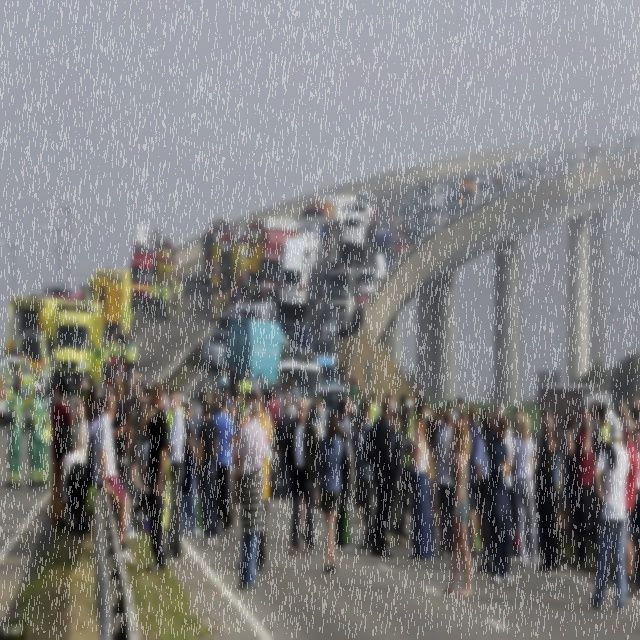pessoa: (588, 413, 631, 617), (88, 393, 142, 542), (90, 391, 134, 568), (234, 389, 274, 572), (232, 398, 269, 592), (284, 396, 321, 562), (139, 379, 170, 574), (442, 416, 473, 602), (361, 398, 395, 558), (487, 412, 515, 588), (532, 402, 560, 578), (316, 407, 344, 574), (473, 404, 500, 574), (162, 386, 188, 561), (512, 410, 540, 570), (406, 417, 436, 562), (48, 373, 74, 539), (572, 407, 596, 568), (195, 396, 220, 548), (212, 394, 237, 542), (178, 398, 204, 538), (88, 358, 150, 414), (466, 400, 486, 564), (621, 413, 639, 592), (354, 384, 437, 422), (62, 394, 90, 506), (166, 386, 186, 540), (436, 406, 456, 560), (384, 408, 406, 546), (356, 402, 376, 551), (19, 380, 46, 490), (558, 408, 578, 548), (334, 398, 352, 548), (112, 378, 134, 495), (190, 388, 212, 501), (396, 412, 414, 540), (492, 400, 514, 502), (423, 414, 441, 534), (276, 400, 296, 501), (4, 376, 22, 488), (628, 423, 640, 591), (588, 398, 601, 548), (333, 404, 352, 504), (228, 402, 242, 530), (512, 411, 524, 548), (618, 396, 639, 466), (129, 379, 143, 473), (40, 380, 52, 488), (228, 380, 268, 412), (352, 417, 364, 523), (344, 396, 356, 498), (594, 401, 612, 462), (268, 385, 282, 462), (314, 395, 326, 483), (137, 394, 149, 481), (238, 372, 254, 416), (84, 384, 99, 429), (278, 388, 298, 420), (125, 333, 139, 378), (140, 434, 150, 497), (228, 276, 242, 320), (76, 370, 92, 408), (48, 379, 61, 413), (398, 392, 411, 426), (174, 270, 183, 318), (403, 397, 415, 433), (219, 276, 229, 318), (102, 336, 110, 388), (218, 366, 230, 400), (108, 328, 120, 360), (209, 388, 221, 420), (152, 274, 160, 320), (243, 277, 251, 322), (290, 376, 302, 406), (368, 391, 380, 421), (162, 276, 170, 320), (278, 368, 292, 393), (162, 382, 172, 416), (167, 270, 174, 318), (178, 386, 192, 409), (216, 276, 224, 316), (348, 373, 358, 405), (389, 208, 402, 232), (167, 272, 174, 316), (299, 498, 306, 542), (348, 375, 358, 405), (157, 269, 167, 299), (211, 284, 219, 320), (172, 267, 178, 311), (252, 372, 263, 396), (445, 400, 458, 420), (120, 335, 129, 362), (307, 400, 317, 423), (309, 402, 319, 423), (455, 396, 465, 414), (458, 411, 470, 426), (514, 398, 522, 418), (221, 383, 230, 400), (294, 392, 302, 408), (204, 385, 212, 401), (64, 394, 72, 409), (335, 392, 343, 406), (228, 361, 236, 373)
